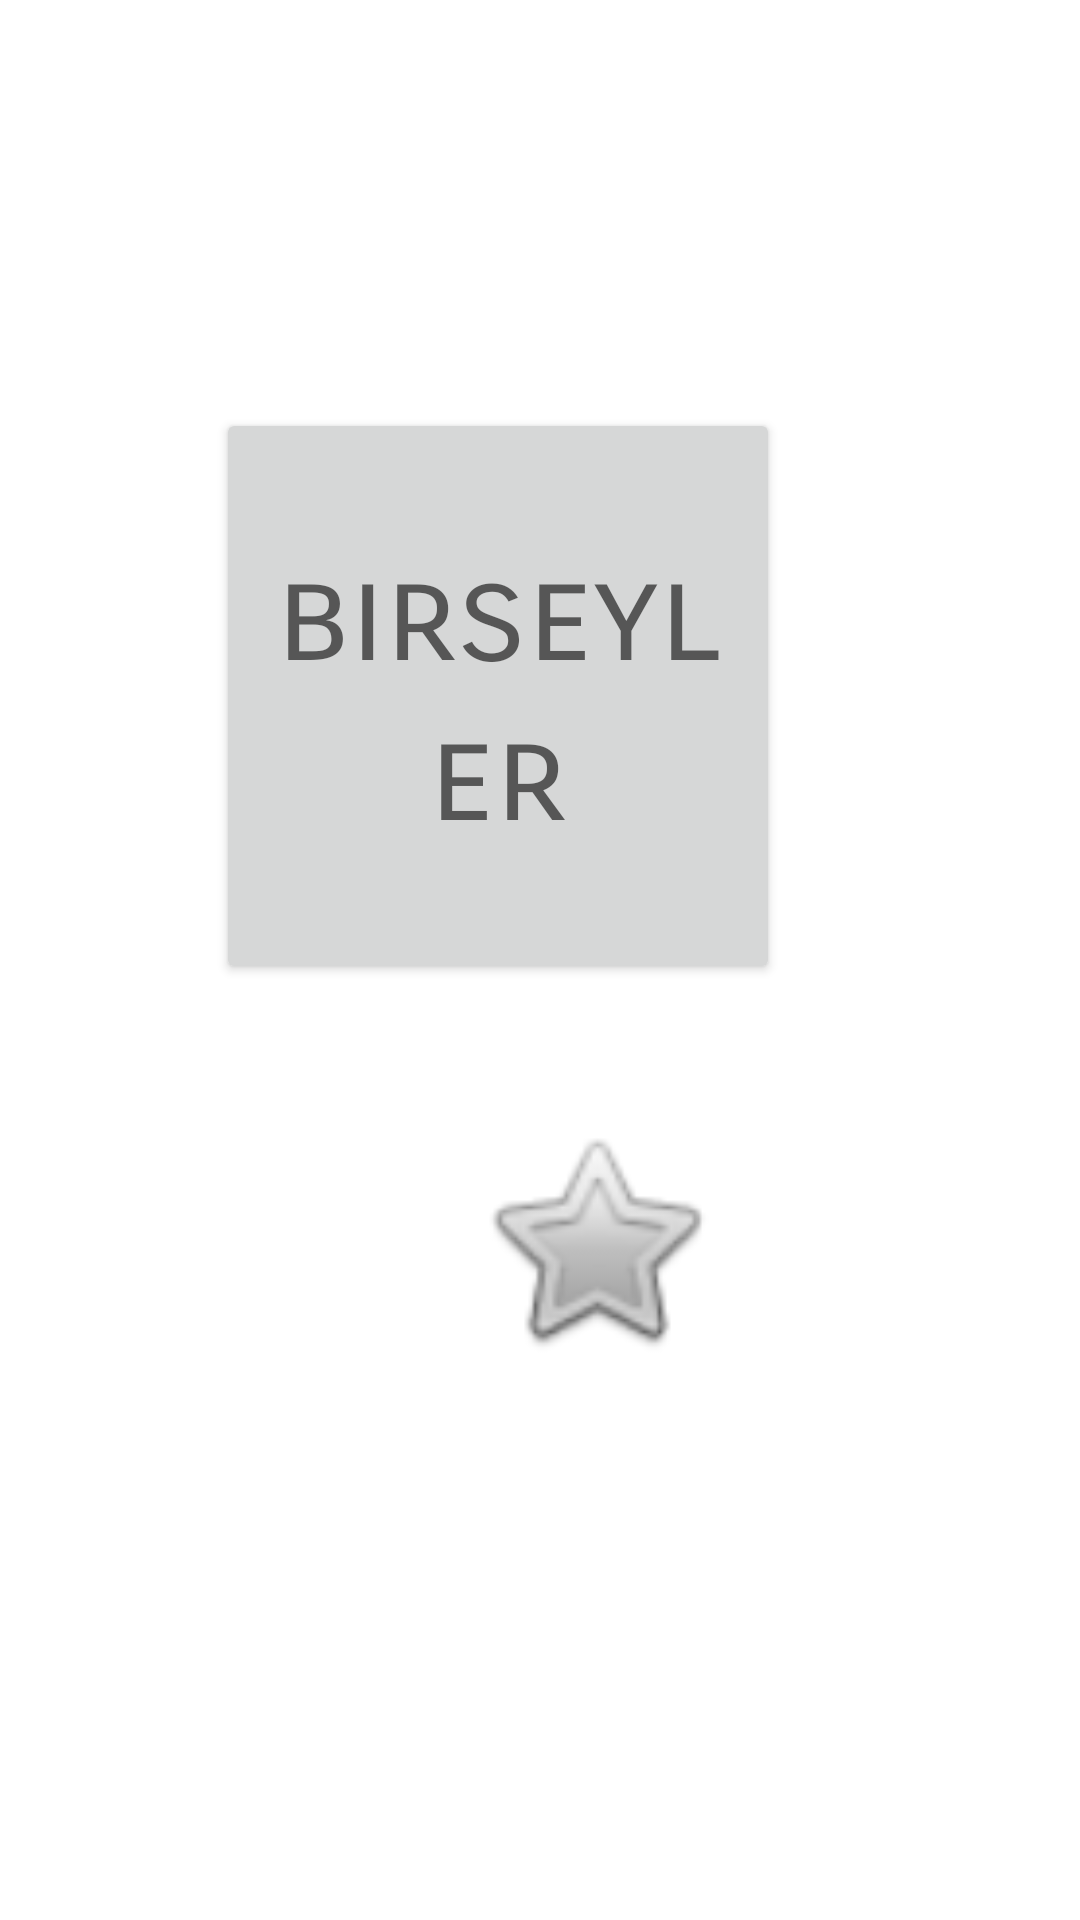

Where icons sit on this 1080px x 1920px app screen, as (x1, y1, x2, y2):
star: (493, 1141, 702, 1344)
